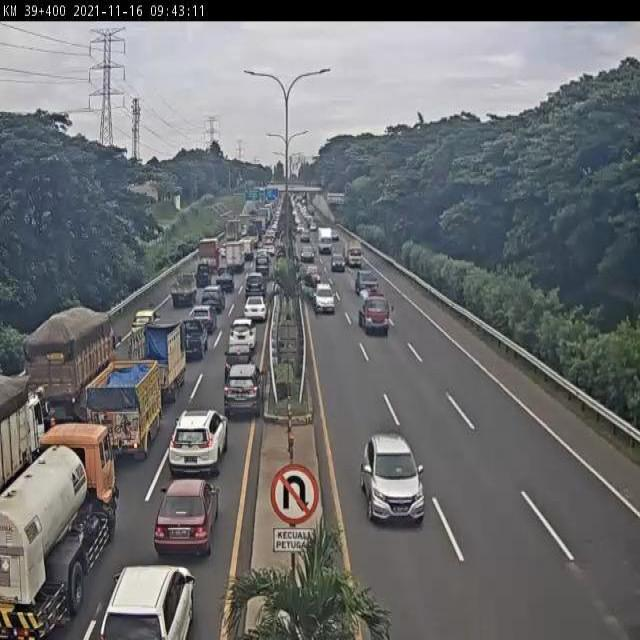car: (98, 565, 194, 640), (361, 435, 424, 525), (156, 478, 220, 558), (171, 409, 229, 476), (225, 365, 266, 420), (226, 347, 253, 381), (229, 321, 255, 351), (128, 315, 154, 344), (313, 284, 336, 313), (241, 277, 265, 303), (243, 298, 268, 322), (355, 269, 378, 295), (199, 288, 223, 312), (190, 308, 213, 332), (193, 264, 212, 289), (214, 275, 234, 297), (252, 257, 269, 279), (304, 263, 320, 284), (300, 245, 314, 263), (330, 253, 344, 271), (257, 252, 271, 267), (261, 244, 274, 259), (300, 230, 310, 242)
small truck: (359, 288, 391, 333), (182, 319, 208, 361), (167, 276, 197, 309), (344, 240, 362, 268), (239, 238, 255, 262), (317, 228, 332, 253)
truck-l-: (19, 309, 117, 419), (0, 378, 45, 498)
truck-m-: (0, 421, 117, 640), (88, 359, 163, 461), (127, 324, 186, 404), (197, 237, 219, 275), (221, 244, 243, 277), (226, 217, 244, 243)
